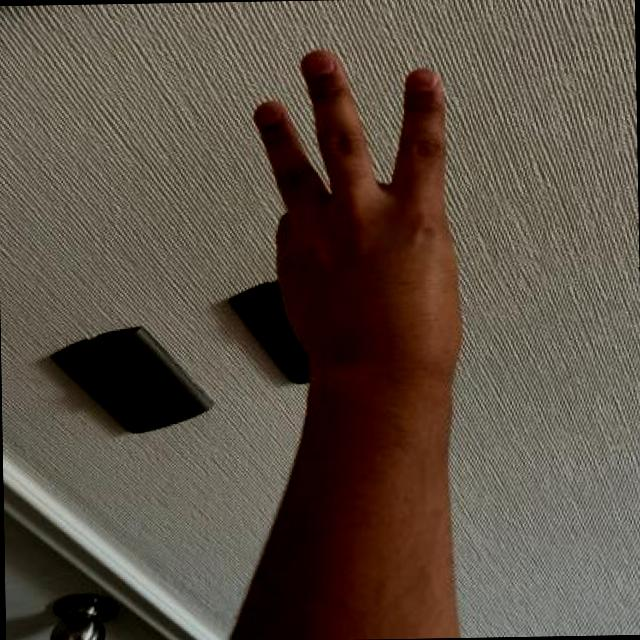W: (244, 38, 476, 378)
